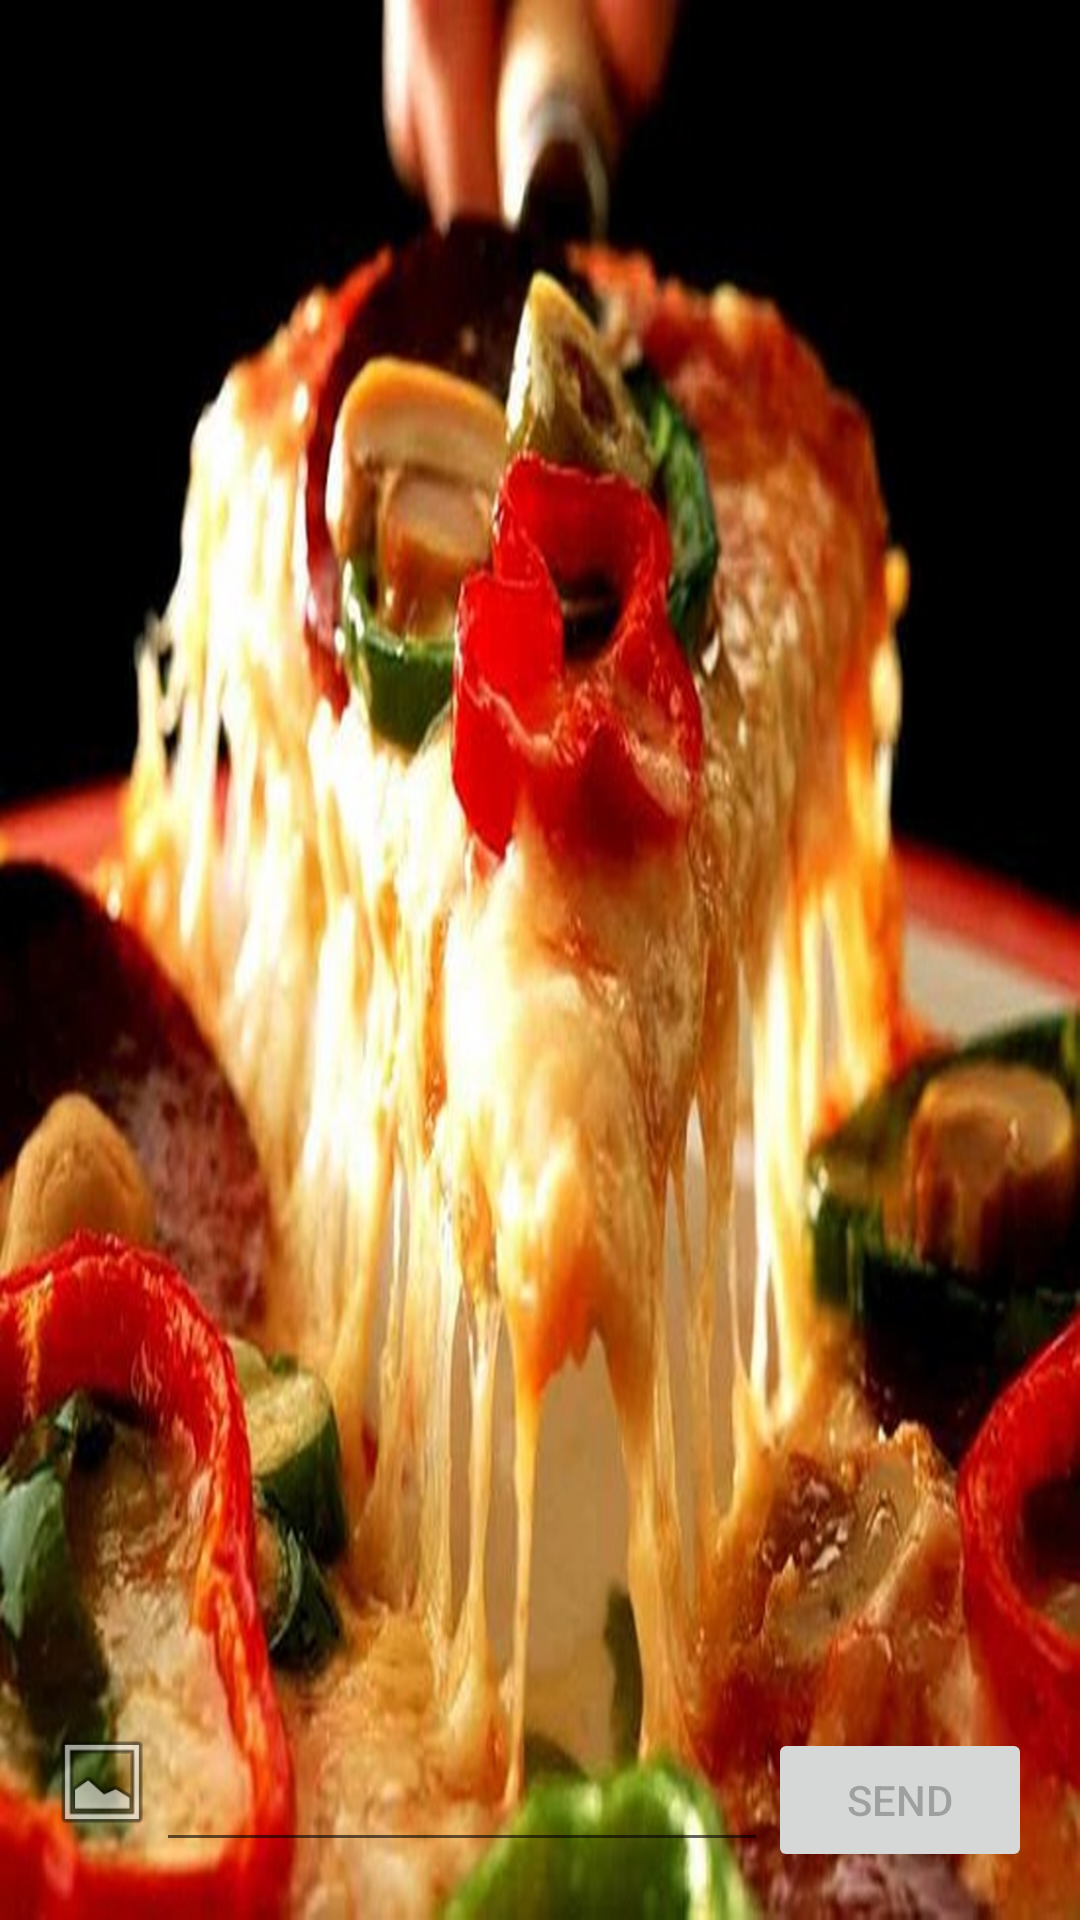

Icons on this 1080 x 1920 Android screen, each with the point to tap as (x=x, y=y):
gallery: (x=102, y=1782)
